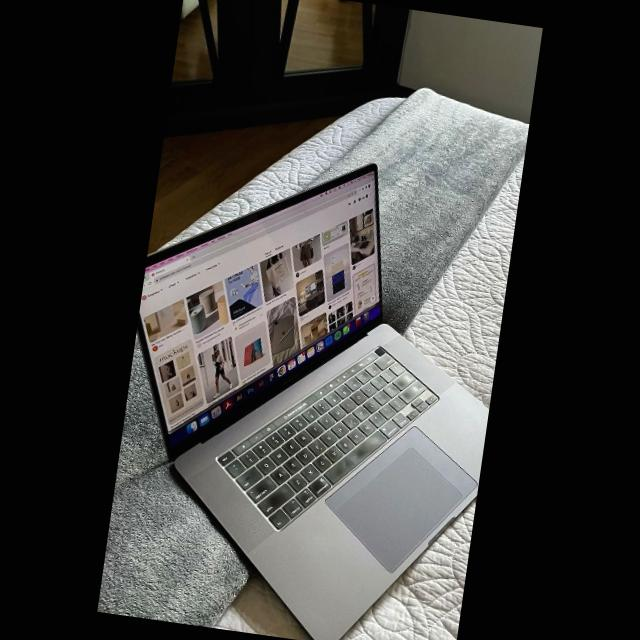laptop: (137, 164, 488, 640)
